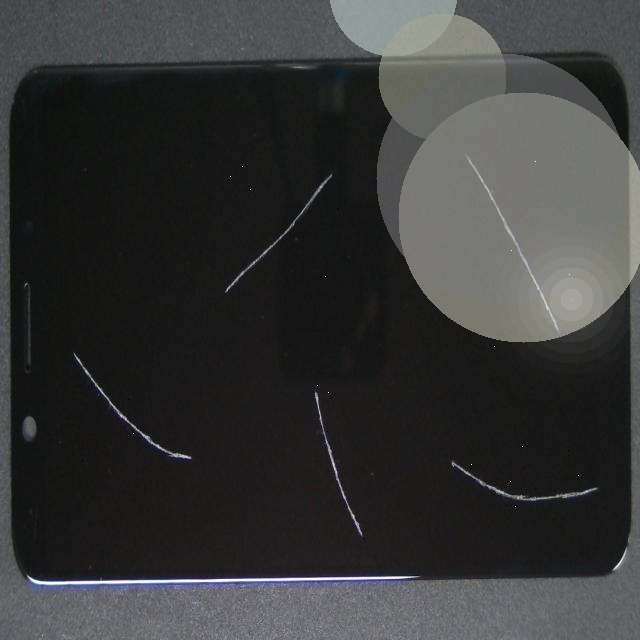scratch: (227, 195, 640, 640), (125, 130, 480, 640), (167, 0, 640, 334), (44, 170, 376, 410), (107, 256, 184, 586)
